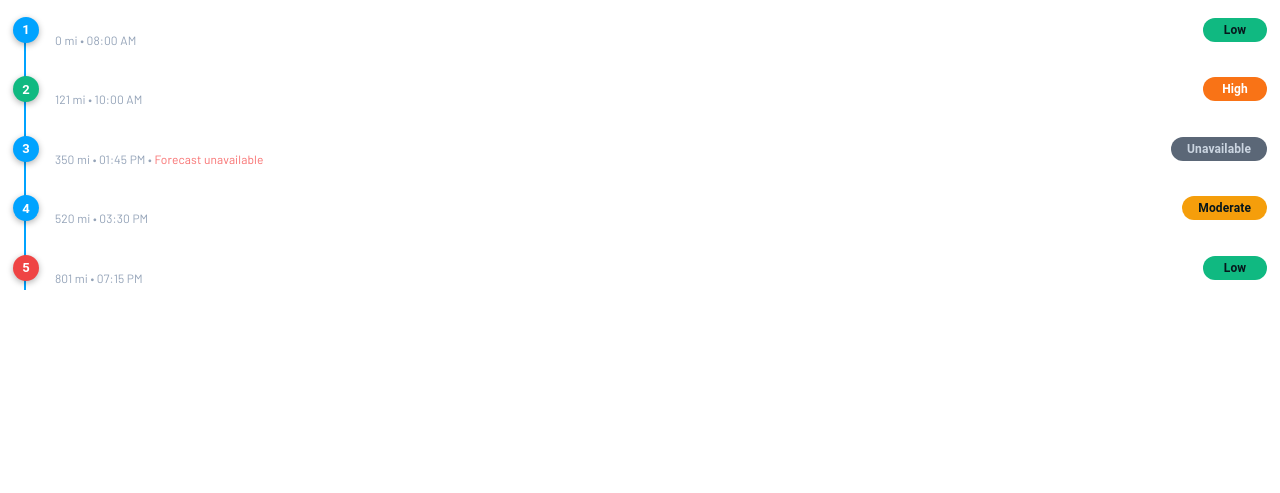
Test: CheckpointList › expands row on click to show weather metrics and reason in mono
The width and height of the screenshot is (1280, 493).
Click the element with test id "checkpoint-row-1" at (93, 79), box [13,70,1267,108]
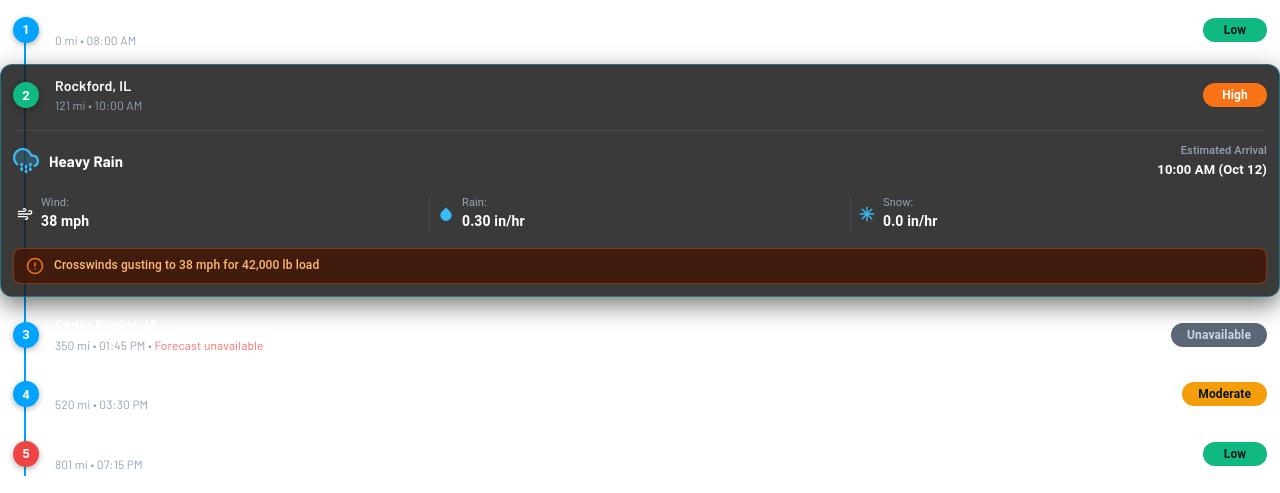
expect the element with test id "checkpoint-detail-1" is shown: met, box [13,130,1267,284]
expect the text "Wind:" is shown: met, box [41,196,69,209]
expect the text "38 mph" is shown: met, box [41,211,89,232]
# Click again to collapse
Click the element with test id "checkpoint-row-1" at (93, 85), box [13,76,1267,114]
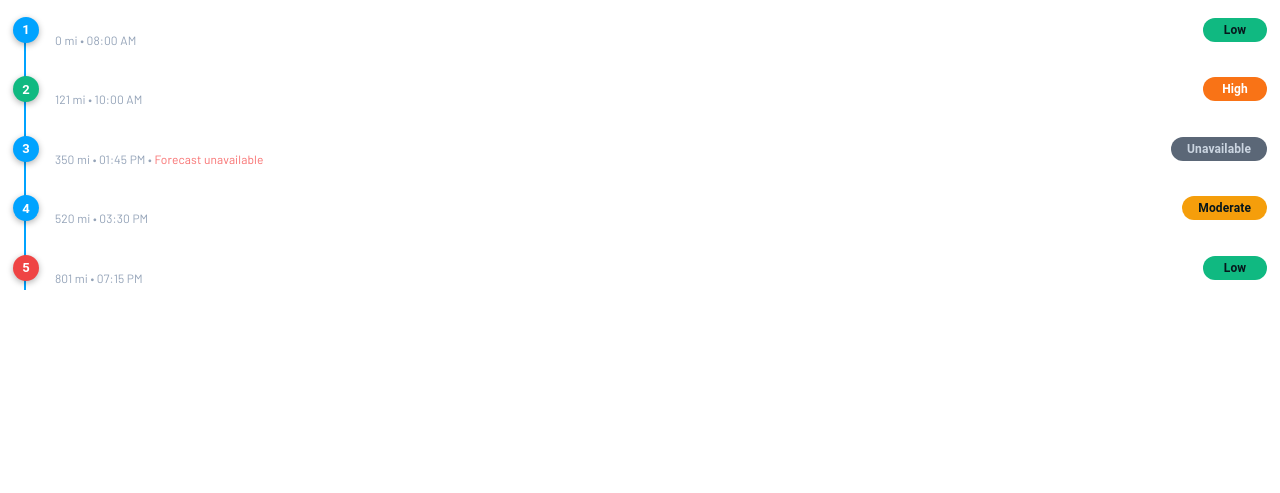
expect the element with test id "checkpoint-detail-1" is gone: met
